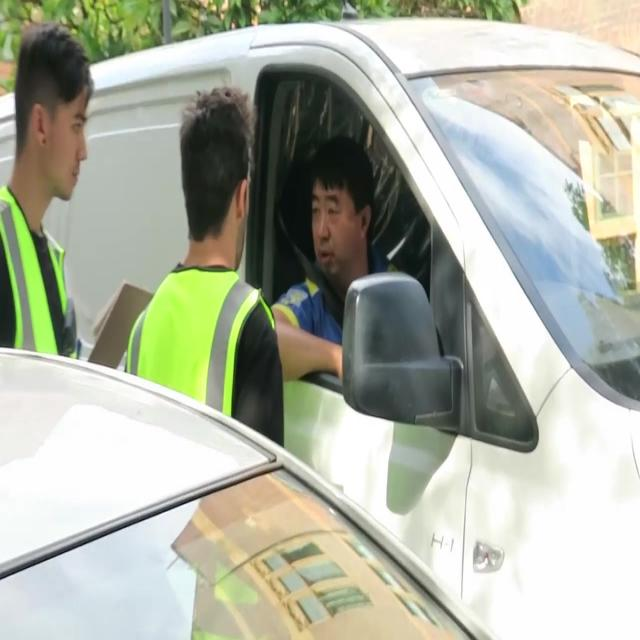Reflective-Jacket: (122, 256, 278, 565), (0, 176, 84, 364)
